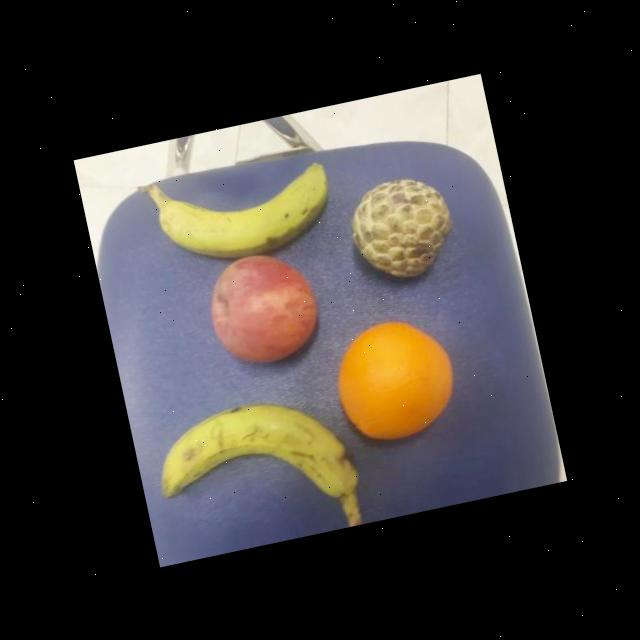Sakya fruit: (340, 166, 468, 290)
apple: (198, 245, 326, 372)
banana: (147, 384, 361, 534), (150, 154, 340, 276)
orange: (322, 307, 466, 452)
